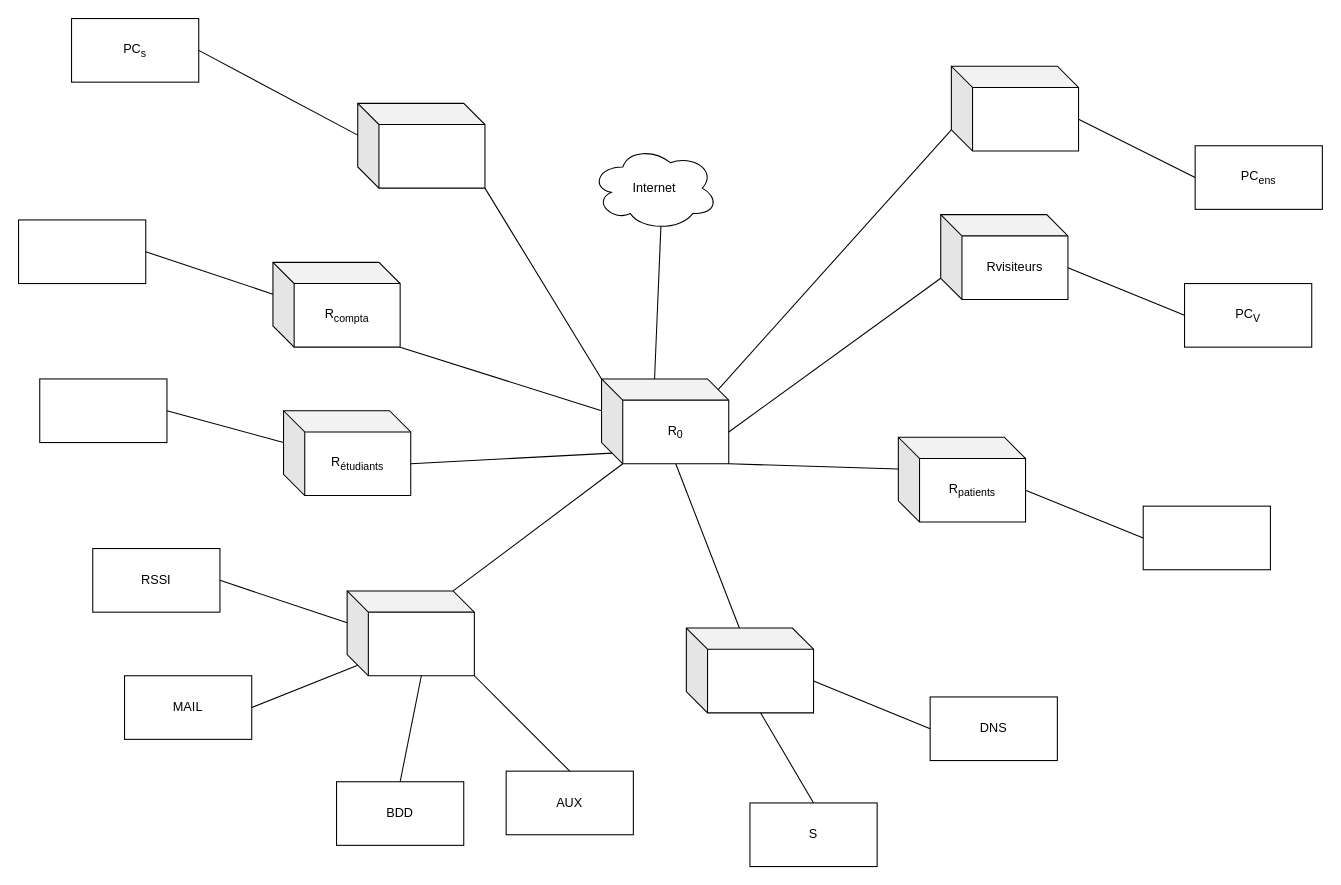
Some shapes in this 1341 by 885 pixel diagram are drawn without their labels. Here are the shapes that lost their labels. From the top down, the centre of each, then its label:
At [1014,108]: "Renseignants".
At [421,145]: "R soignants".
At [81,251]: "PC c".
At [103,410]: "PC etu".
At [1206,537]: "PC p".
At [410,633]: "R DSI".
At [749,670]: "R S".
